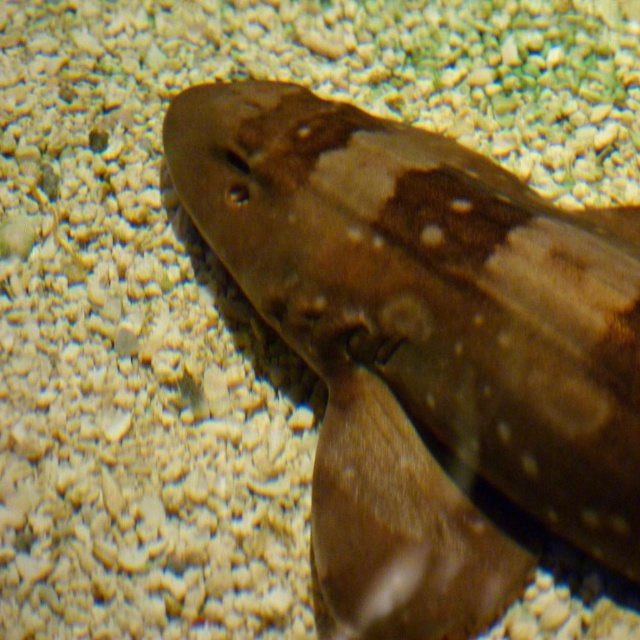Fish: (163, 75, 640, 639)
